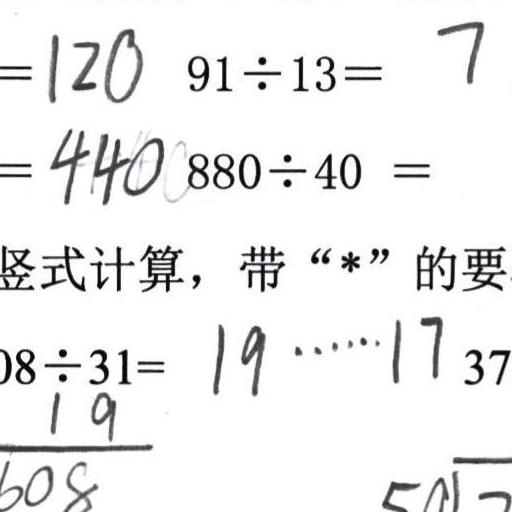ans: (203, 308, 444, 396), (45, 120, 164, 207), (40, 20, 142, 105), (432, 12, 485, 83)
